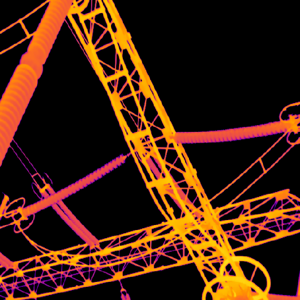insulator: (20, 152, 126, 218), (39, 181, 99, 250), (172, 118, 292, 143)
